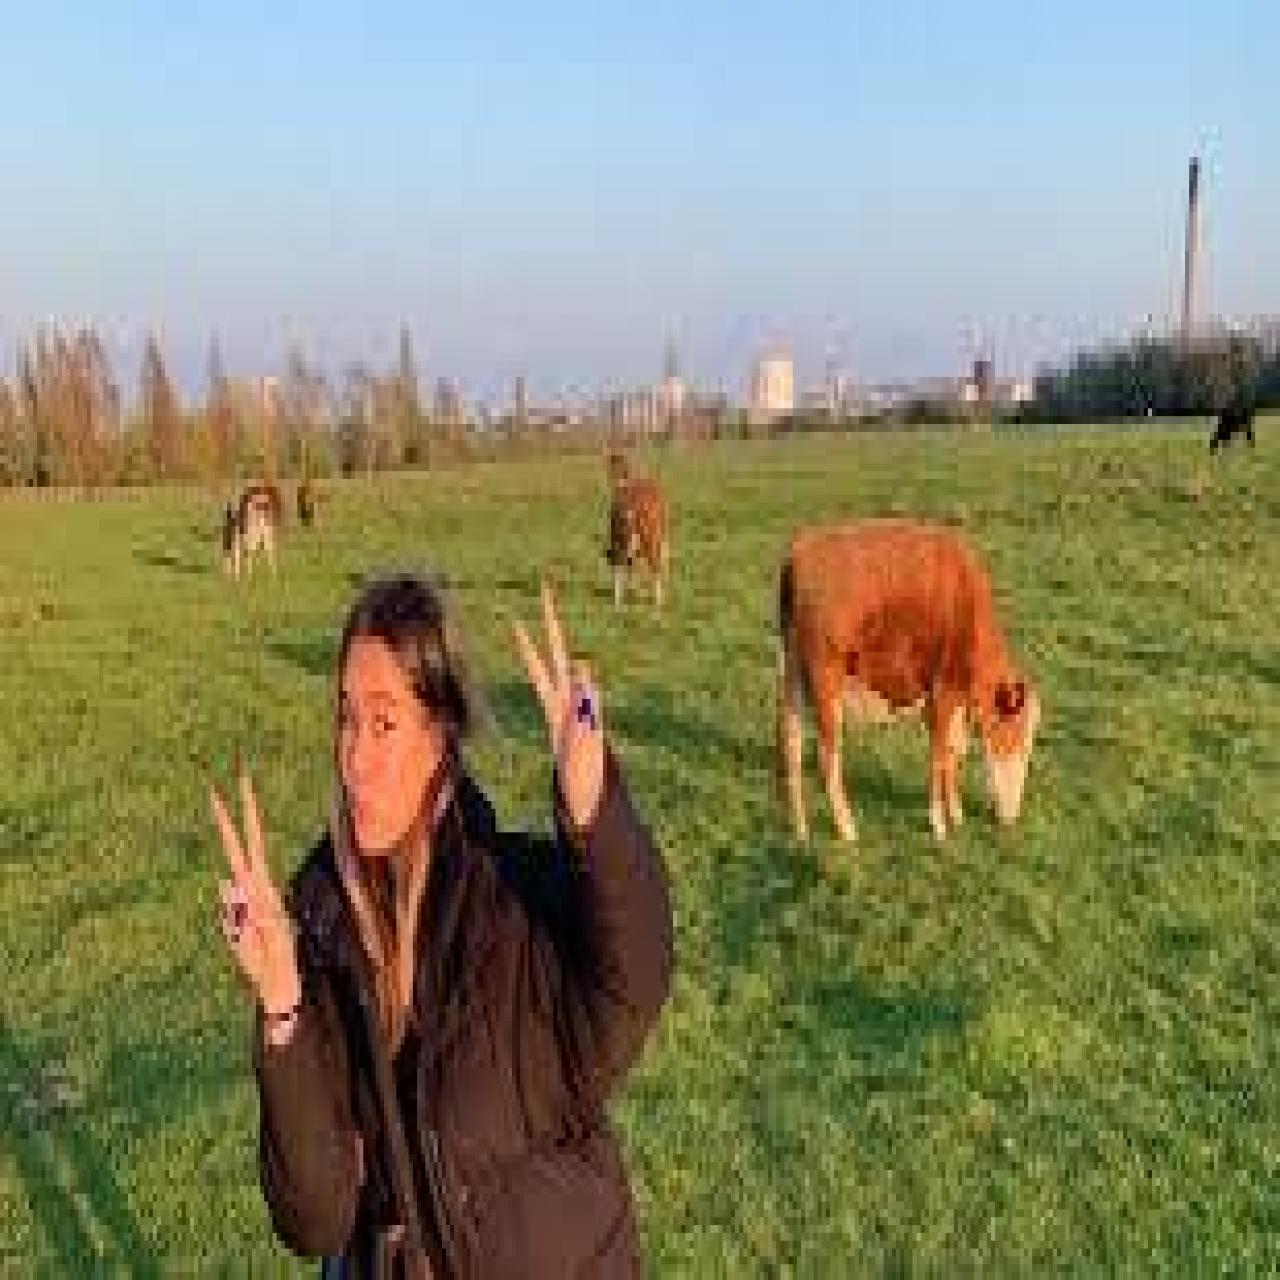cow: (775, 518, 1039, 847), (610, 486, 675, 612), (223, 483, 285, 585)
